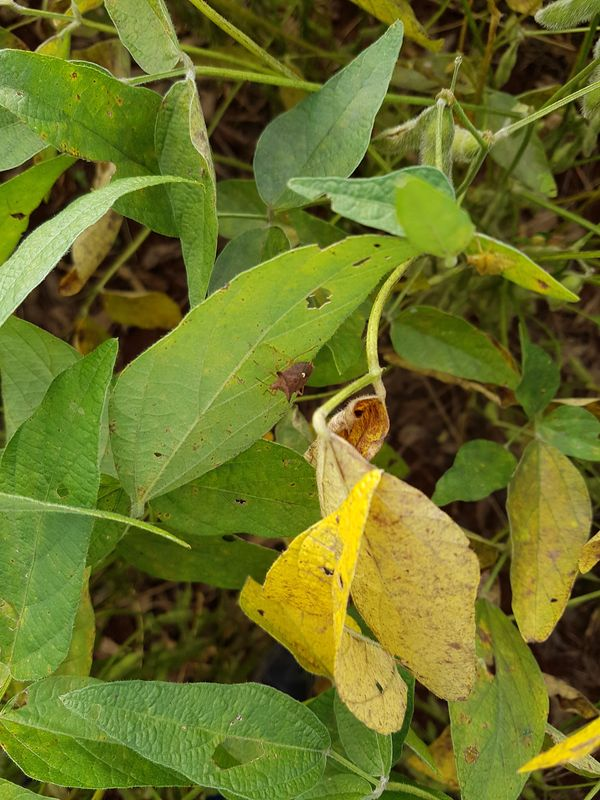Euschistus_heros_adulto: (259, 353, 324, 411)
Euschistus_heros_ninfa: (458, 234, 526, 288)
